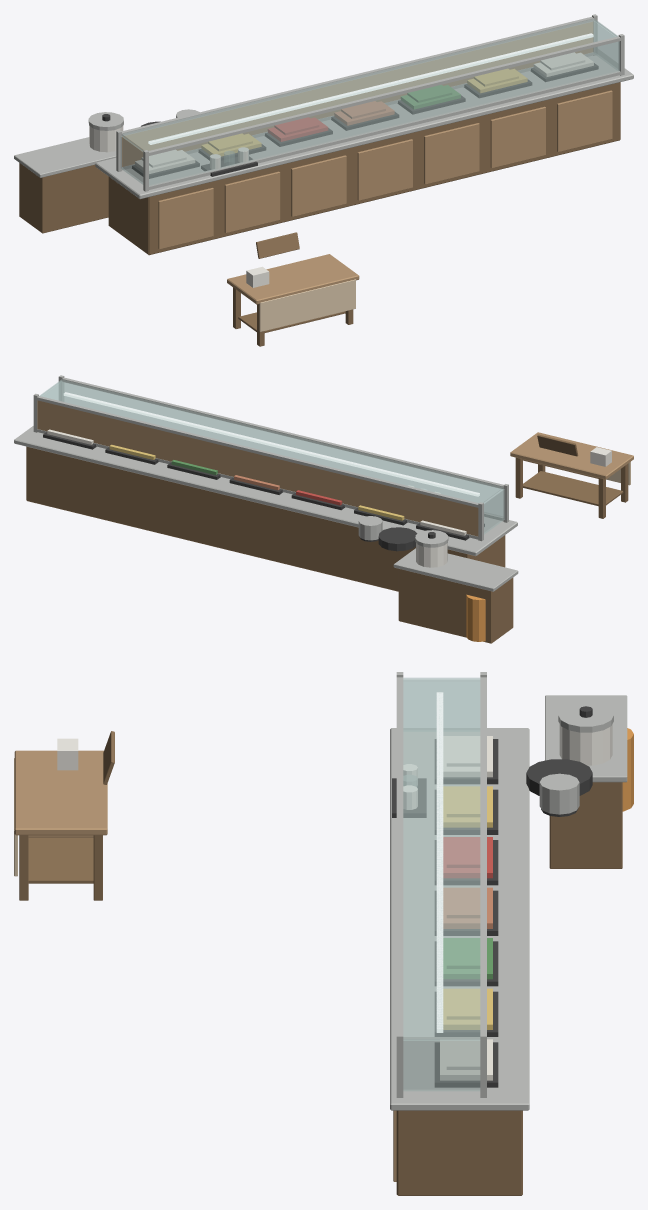
The model's file is WartegCounter.fbx.
3 views of the same model, one above another, from view 1: azimuth 30°, elevation 25°; view 2: azimuth 150°, elevation 25°; view 3: azimuth 270°, elevation 25° (orthographic). The views are drawn at different scales.
Parts seen in each view (by area): view 1: GlassFront, GlassTop, CounterBase, DisplayBack, CounterTop, PrepTableBase, CashierTop, CashierPanel, CounterPanel_5, CounterPanel_1, CounterPanel_3, CounterPanel_0 (+21 smaller); view 2: CounterBase, DisplayBack, GlassTop, GlassFront, CounterTop, PrepTableBase, DisplayFrameTop_1.58, DisplayFrameTop_0.95, PrepTableTop, CashierTop, DisplayLight, CashierShelf (+8 smaller); view 3: CounterTop, GlassTop, CounterBase, CashierTop, PrepTableBase, GlassSideL, GlassSideR, PrepTableTop, CashierShelf, DisplayFrameTop_0.95, DisplayLight, DisplayFrameTop_1.58 (+25 smaller).
Part boxes in pixels (x1,y1,x2,y2): GlassFront: [149, 41, 619, 185]; GlassTop: [122, 19, 617, 150]; CounterBase: [108, 82, 620, 255]; DisplayBack: [122, 21, 593, 166]; CounterTop: [95, 49, 633, 199]; PrepTableBase: [19, 163, 108, 233]; CashierTop: [227, 254, 359, 304]; CashierPanel: [259, 279, 355, 331]; CounterPanel_5: [224, 171, 280, 232]; CounterPanel_1: [490, 106, 545, 168]; CounterPanel_3: [357, 139, 412, 200]; CounterPanel_0: [557, 90, 612, 151]; CounterBase: [26, 446, 505, 591]; DisplayBack: [37, 400, 478, 536]; GlassTop: [39, 379, 503, 503]; GlassFront: [64, 383, 503, 516]; CounterTop: [14, 426, 517, 556]; PrepTableBase: [398, 569, 513, 643]; DisplayFrameTop_1.58: [37, 396, 479, 507]; DisplayFrameTop_0.95: [62, 377, 503, 488]; PrepTableTop: [393, 548, 518, 591]; CashierTop: [510, 432, 633, 479]; DisplayLight: [63, 392, 479, 496]; CashierShelf: [523, 471, 623, 506]; CounterTop: [390, 728, 529, 1110]; GlassTop: [403, 677, 480, 1040]; CounterBase: [396, 1110, 522, 1195]; CashierTop: [14, 750, 107, 835]; PrepTableBase: [549, 782, 622, 868]; GlassSideL: [403, 1039, 480, 1091]; GlassSideR: [403, 680, 479, 731]; PrepTableTop: [545, 695, 627, 782]; CashierShelf: [28, 838, 93, 883]; DisplayFrameTop_0.95: [396, 677, 403, 1033]; DisplayLight: [436, 692, 443, 1032]; DisplayFrameTop_1.58: [480, 677, 486, 1033].
Bounding box in the file's own units: 7.37 × 1.35 × 4.67.
